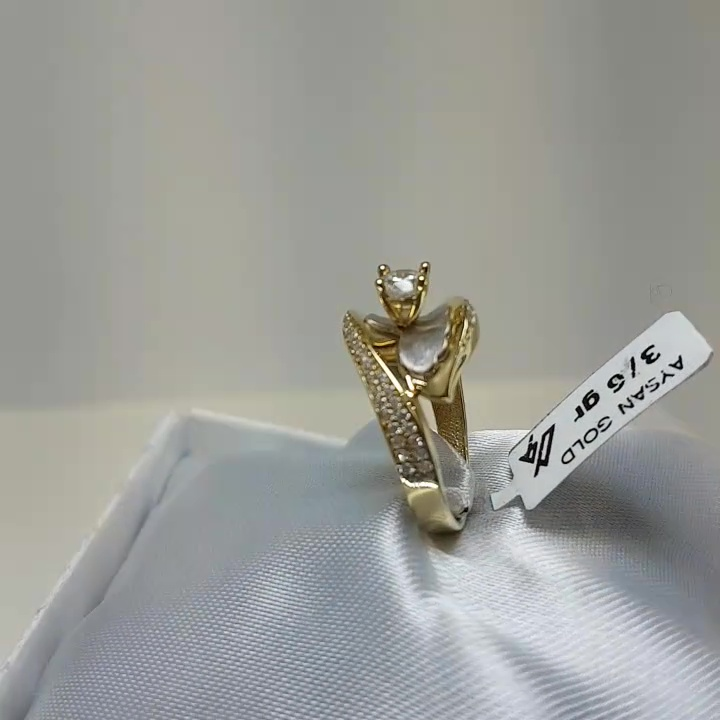Ring 6: (319, 243, 521, 547)
